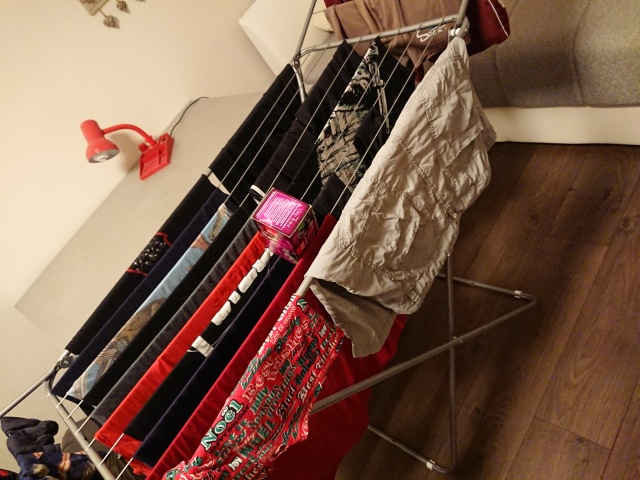Franck Black Currant Tea 60g: (248, 184, 323, 265)
